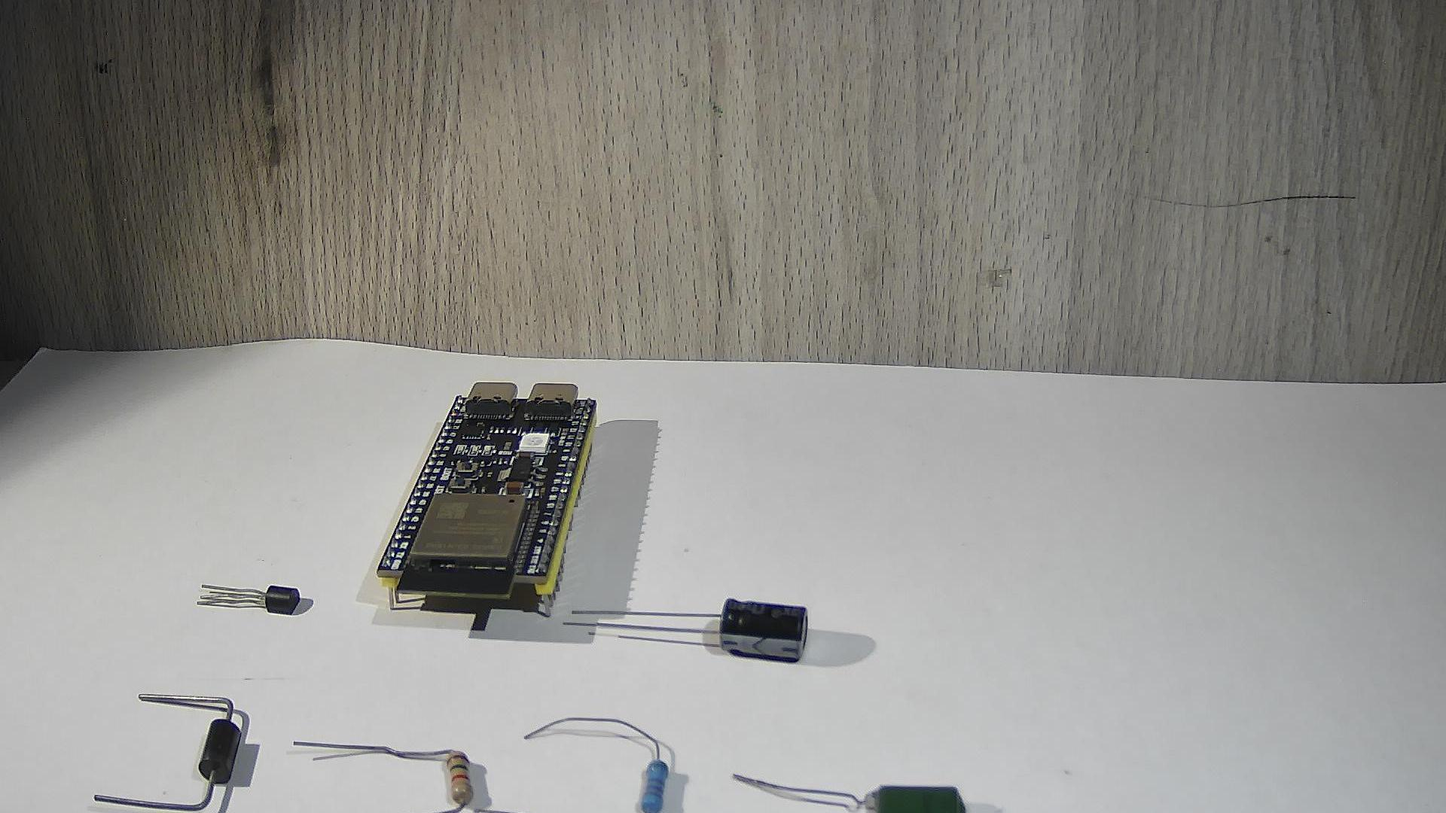Capacitor: (617, 579, 838, 680)
Diodo: (110, 680, 253, 813)
ESP32: (359, 357, 609, 631)
Resistencia: (327, 709, 496, 813), (540, 709, 687, 813)
Transistor: (196, 550, 323, 645)
capacitor ceramico: (717, 762, 1002, 813)
